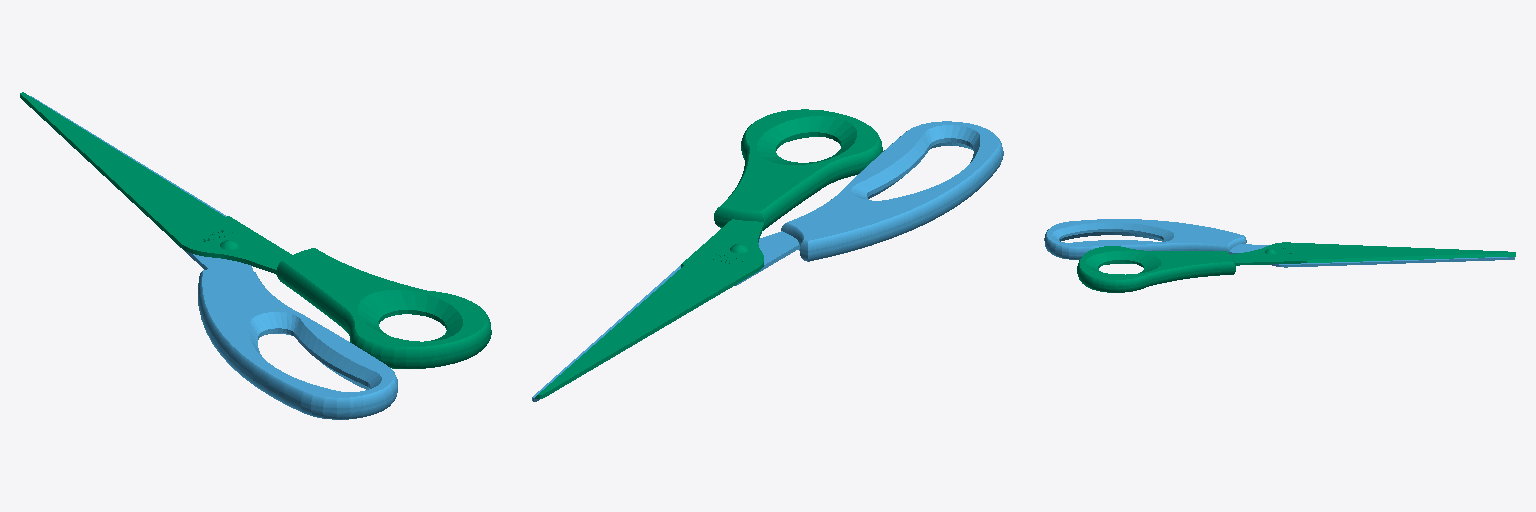
URDF robot description (partnet_bf2e40ab28c6b7bac94f6db5c00b15d):
<?xml version="1.0" ?>
<robot name="partnet_bf2e40ab28c6b7bac94f6db5c00b15d">
	<link name="base"/>
	<link name="link_0">
		<visual name="blade-4">
			<origin xyz="0.22958213216136616 -0.020311435594487337 0.011879470837008068"/>
			<geometry>
				<mesh filename="textured_objs/original-1.obj"/>
			</geometry>
		</visual>
		<visual name="handle-5">
			<origin xyz="0.22958213216136616 -0.020311435594487337 0.011879470837008068"/>
			<geometry>
				<mesh filename="textured_objs/original-6.obj"/>
			</geometry>
		</visual>
		<visual name="handle-5">
			<origin xyz="0.22958213216136616 -0.020311435594487337 0.011879470837008068"/>
			<geometry>
				<mesh filename="textured_objs/original-7.obj"/>
			</geometry>
		</visual>
		<visual name="handle-5">
			<origin xyz="0.22958213216136616 -0.020311435594487337 0.011879470837008068"/>
			<geometry>
				<mesh filename="textured_objs/original-5.obj"/>
			</geometry>
		</visual>
		<collision>
			<origin xyz="0.22958213216136616 -0.020311435594487337 0.011879470837008068"/>
			<geometry>
				<mesh filename="textured_objs/original-1.obj"/>
			</geometry>
		</collision>
		<collision>
			<origin xyz="0.22958213216136616 -0.020311435594487337 0.011879470837008068"/>
			<geometry>
				<mesh filename="textured_objs/original-6.obj"/>
			</geometry>
		</collision>
		<collision>
			<origin xyz="0.22958213216136616 -0.020311435594487337 0.011879470837008068"/>
			<geometry>
				<mesh filename="textured_objs/original-7.obj"/>
			</geometry>
		</collision>
		<collision>
			<origin xyz="0.22958213216136616 -0.020311435594487337 0.011879470837008068"/>
			<geometry>
				<mesh filename="textured_objs/original-5.obj"/>
			</geometry>
		</collision>
	</link>
	<joint name="joint_0" type="revolute">
		<origin xyz="-0.22958213216136616 0.020311435594487337 -0.011879470837008068"/>
		<axis xyz="0 -1 0"/>
		<child link="link_0"/>
		<parent link="link_1"/>
		<limit lower="-0.0" upper="0.7853981633974483"/>
	</joint>
	<link name="link_1">
		<visual name="screw-3">
			<origin xyz="0 0 0"/>
			<geometry>
				<mesh filename="textured_objs/original-12.obj"/>
			</geometry>
		</visual>
		<visual name="blade-6">
			<origin xyz="0 0 0"/>
			<geometry>
				<mesh filename="textured_objs/original-2.obj"/>
			</geometry>
		</visual>
		<visual name="handle-7">
			<origin xyz="0 0 0"/>
			<geometry>
				<mesh filename="textured_objs/original-9.obj"/>
			</geometry>
		</visual>
		<visual name="handle-7">
			<origin xyz="0 0 0"/>
			<geometry>
				<mesh filename="textured_objs/original-10.obj"/>
			</geometry>
		</visual>
		<visual name="handle-7">
			<origin xyz="0 0 0"/>
			<geometry>
				<mesh filename="textured_objs/original-11.obj"/>
			</geometry>
		</visual>
		<collision>
			<origin xyz="0 0 0"/>
			<geometry>
				<mesh filename="textured_objs/original-12.obj"/>
			</geometry>
		</collision>
		<collision>
			<origin xyz="0 0 0"/>
			<geometry>
				<mesh filename="textured_objs/original-2.obj"/>
			</geometry>
		</collision>
		<collision>
			<origin xyz="0 0 0"/>
			<geometry>
				<mesh filename="textured_objs/original-9.obj"/>
			</geometry>
		</collision>
		<collision>
			<origin xyz="0 0 0"/>
			<geometry>
				<mesh filename="textured_objs/original-10.obj"/>
			</geometry>
		</collision>
		<collision>
			<origin xyz="0 0 0"/>
			<geometry>
				<mesh filename="textured_objs/original-11.obj"/>
			</geometry>
		</collision>
	</link>
	<joint name="joint_1" type="fixed">
		<origin rpy="1.570796326794897 0 -1.570796326794897" xyz="0 0 0"/>
		<child link="link_1"/>
		<parent link="base"/>
	</joint>
</robot>

--- Facts derived from the render (not from the file) ---
Views: 3 orthographic renders of the robot side by side, from view 1: azimuth 30°, elevation 25°; view 2: azimuth 150°, elevation 25°; view 3: azimuth 270°, elevation 25°.
Model partnet_bf2e40ab28c6b7bac94f6db5c00b15d with 3 links and 2 joints (1 revolute, 1 fixed), rooted at base, posed every joint at zero.
Links seen in each view (by area): view 1: link_1, link_0; view 2: link_1, link_0; view 3: link_1, link_0.
Boxes of the visible links, left/top/right/bottom form: link_1: left=20, top=92, right=491, bottom=368; link_0: left=30, top=96, right=397, bottom=419; link_1: left=535, top=109, right=882, bottom=398; link_0: left=532, top=121, right=1003, bottom=401; link_1: left=1077, top=242, right=1515, bottom=292; link_0: left=1044, top=219, right=1514, bottom=267.
Bounding box of the posed robot: 0.5027 × 1.52 × 0.0548 m (x, y, z).
9 mesh visuals loaded from 9 distinct referenced files (9 OBJ).
